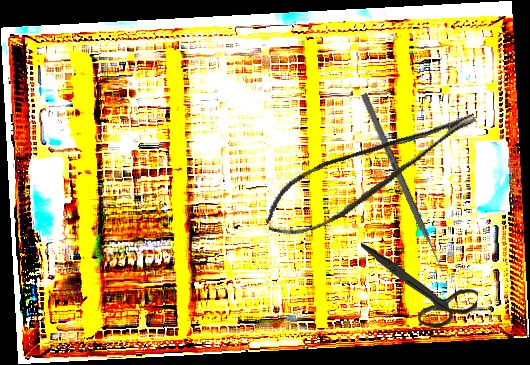Iris Scissors: (358, 240, 480, 331)
Micro Scissor: (253, 104, 493, 248)
Pusher: (360, 92, 448, 279)
